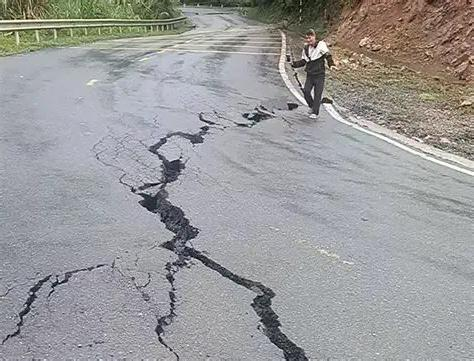ROAD_CRACK: (84, 160, 294, 340), (189, 100, 299, 170)
